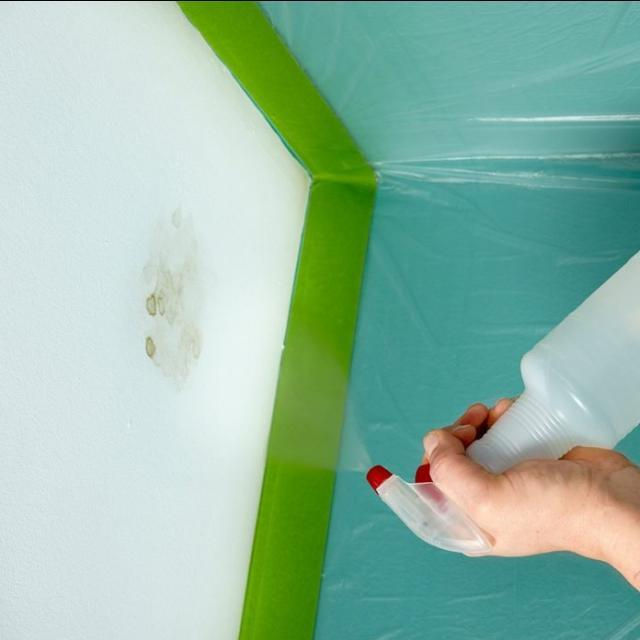leak: (143, 211, 209, 387)
